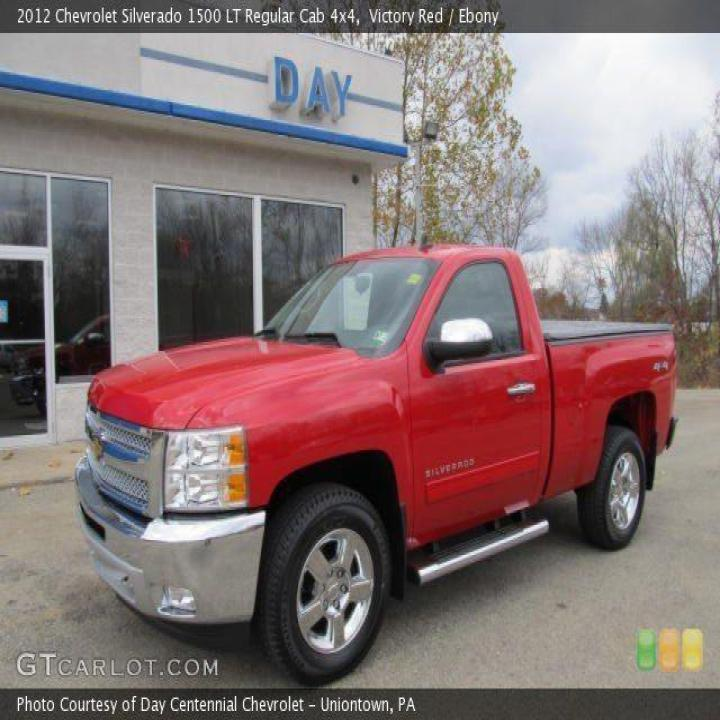car: (73, 240, 680, 684), (8, 312, 110, 417)
